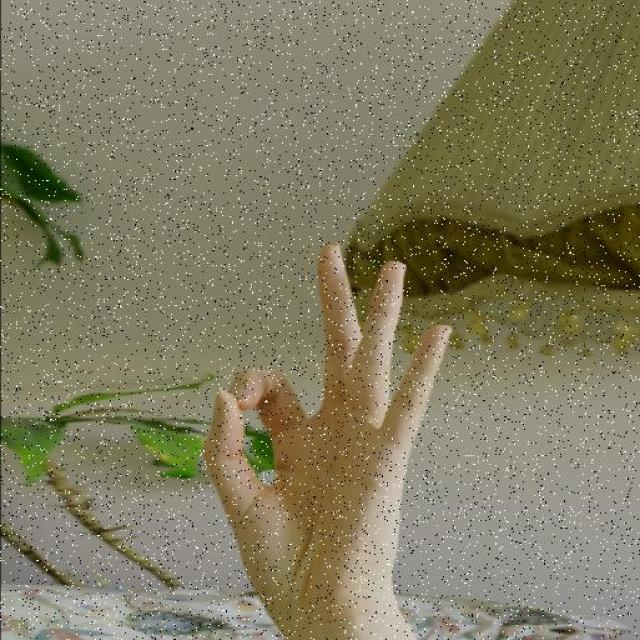F: (198, 238, 454, 617)
